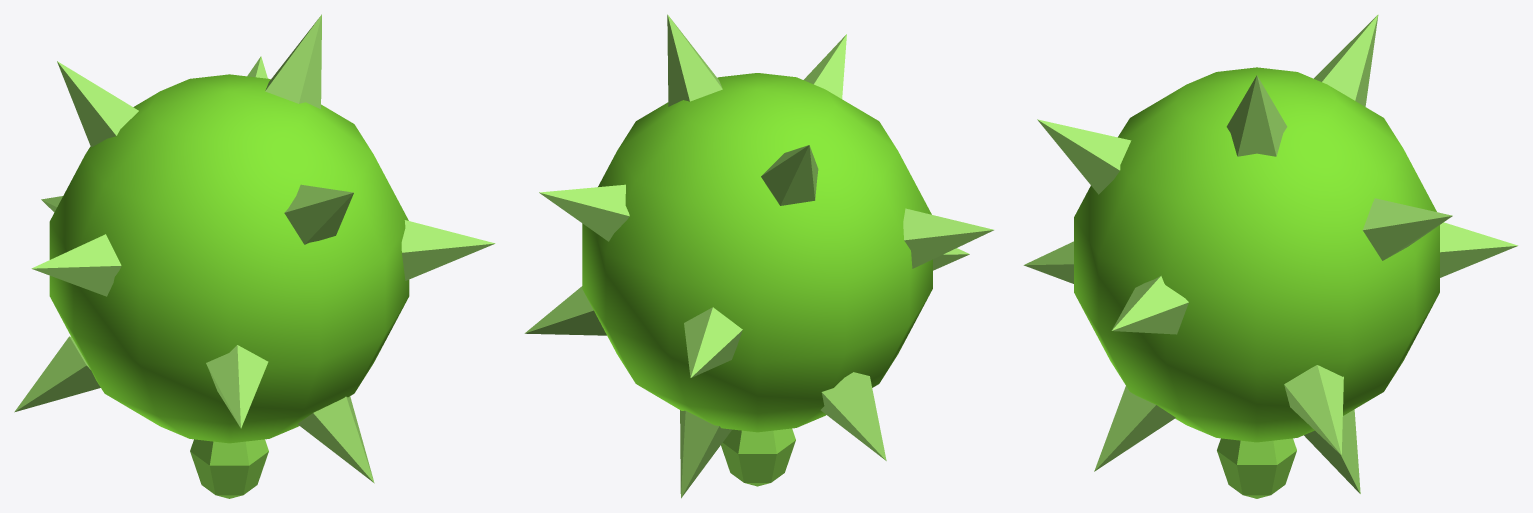
File: Fruto_VenomSpitter.fbx
The picture shows the model from 3 angles, left to right: view 1: azimuth 30°, elevation 25°; view 2: azimuth 150°, elevation 25°; view 3: azimuth 270°, elevation 25°; orthographic projection. The views are drawn at different scales.
Visible parts, largest first — view 1: Produto_VenomSpitter; view 2: Produto_VenomSpitter; view 3: Produto_VenomSpitter.
Part boxes in pixels (box(x1,y1,x2,y2)): Produto_VenomSpitter: box(14, 14, 495, 498); Produto_VenomSpitter: box(524, 14, 993, 498); Produto_VenomSpitter: box(1023, 14, 1517, 498).
Size of the model in its own units: 0.7338 by 0.7742 by 0.7396.
1 material, 1 textured.
